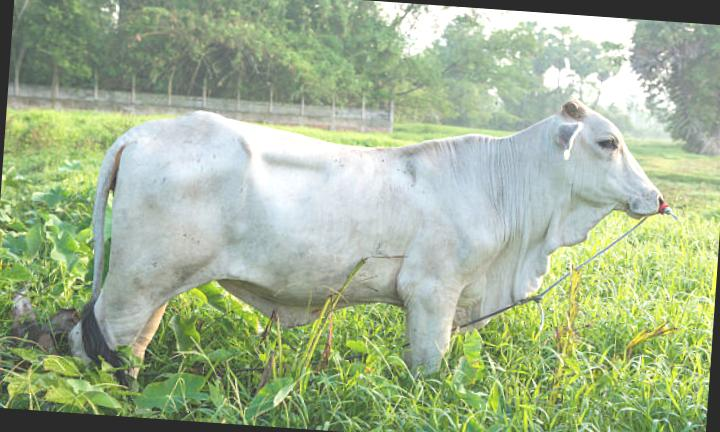Brahman: (72, 100, 663, 369)
